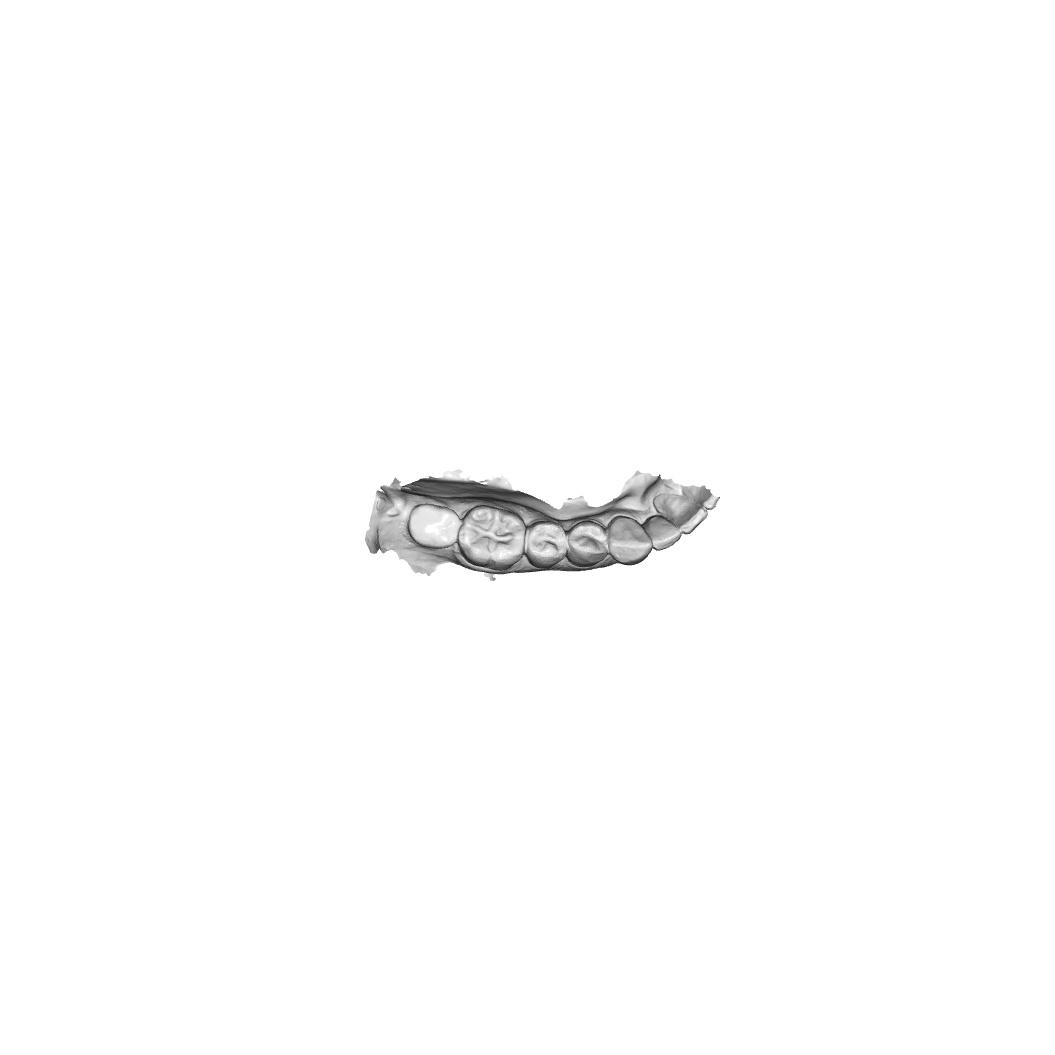canine: (606, 514, 653, 567)
incisor: (663, 494, 709, 536), (644, 514, 682, 552), (680, 486, 720, 511)
molar: (456, 504, 525, 572), (406, 502, 460, 550)
premolar: (524, 520, 567, 569), (566, 520, 608, 567)
